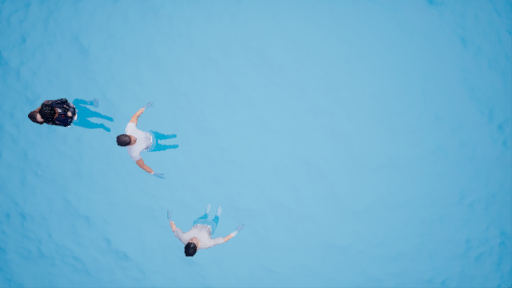person: (114, 101, 187, 183), (164, 198, 243, 258), (23, 91, 118, 140)
